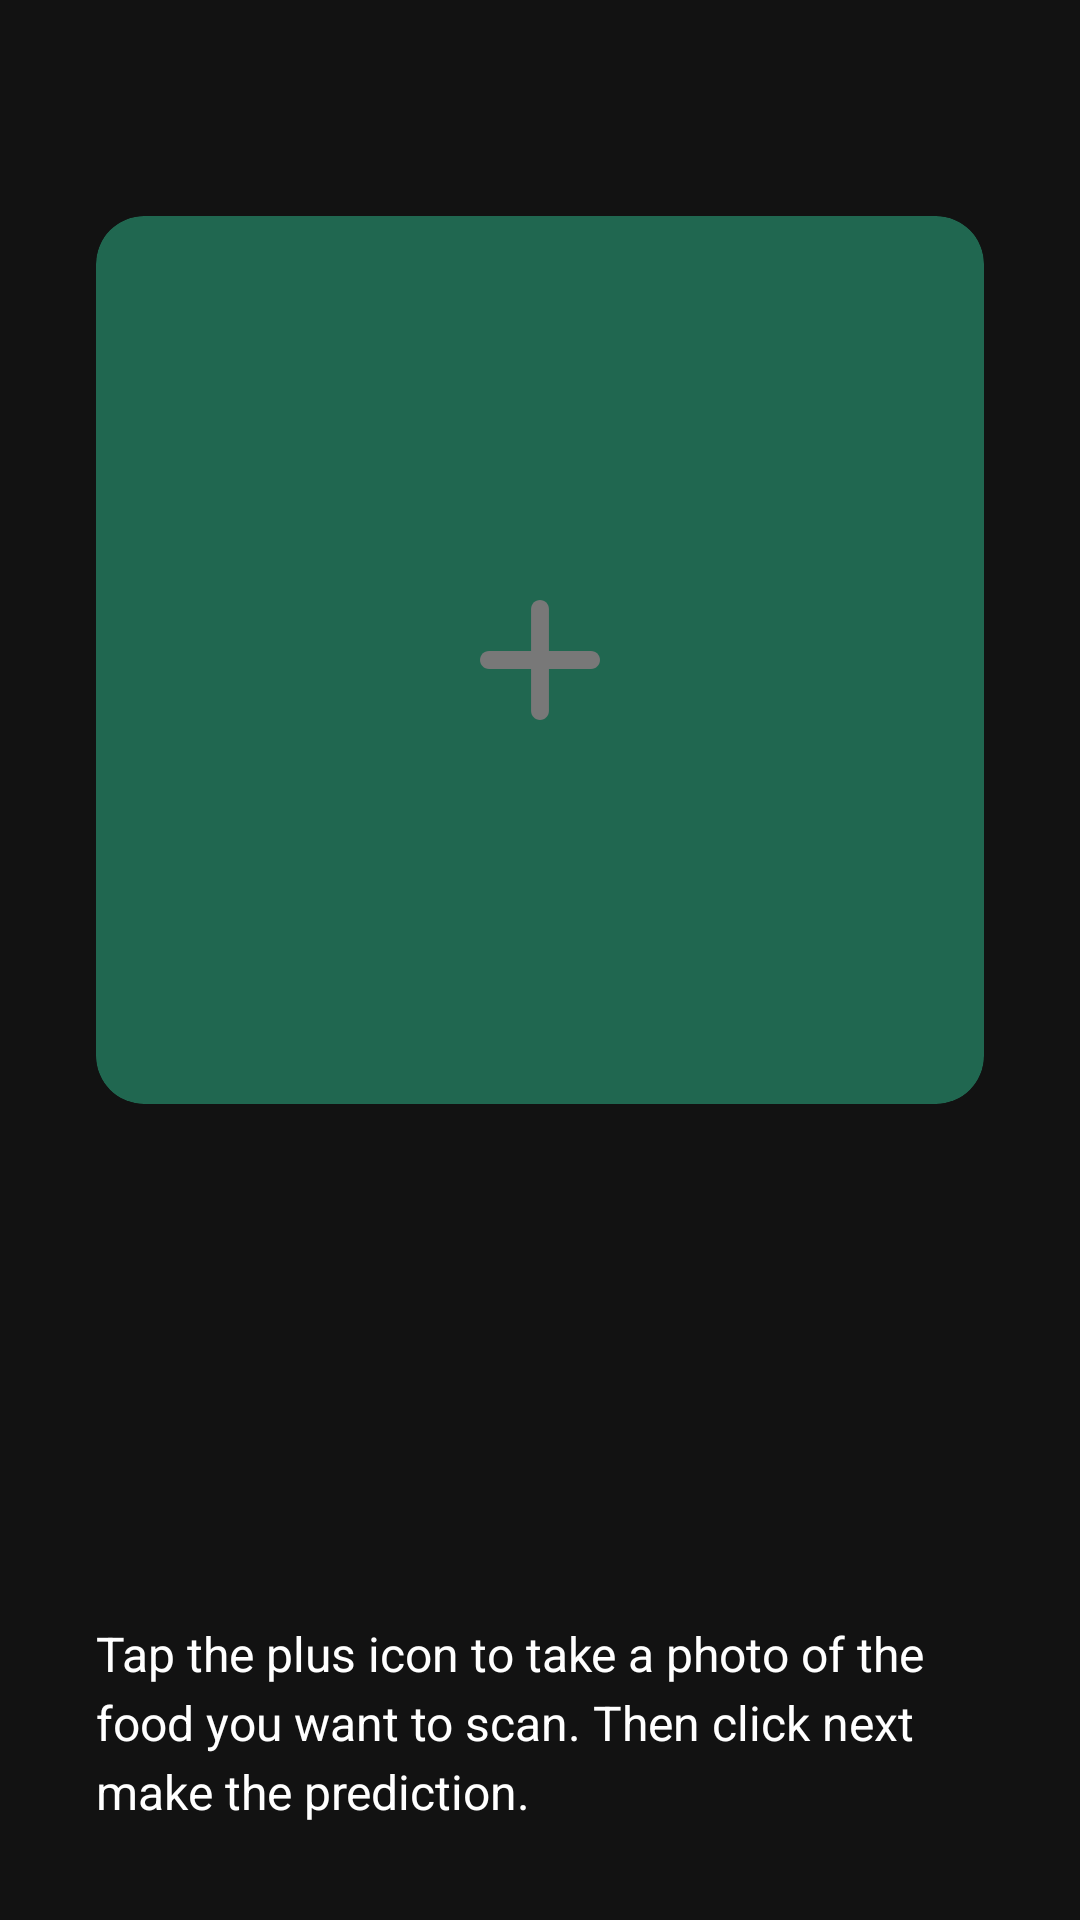

Named icons in this screenshot (1080*1920) and their centers, (x=x, y=y):
plus: (x=540, y=660)
